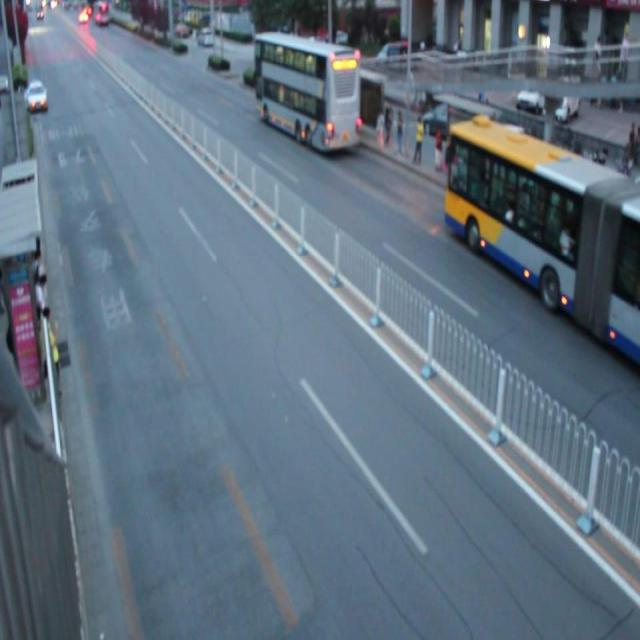van: (444, 120, 640, 364), (253, 30, 360, 150)
